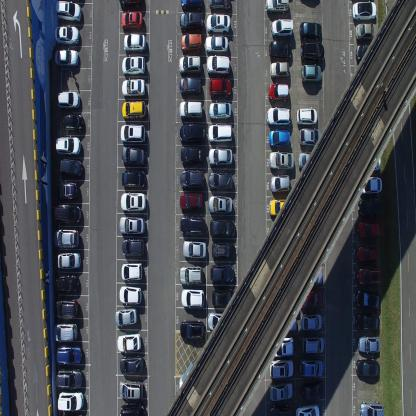car: (52, 203, 82, 224), (355, 288, 382, 311), (179, 214, 206, 237), (55, 367, 83, 389), (54, 23, 79, 47), (120, 190, 146, 213), (55, 0, 81, 23), (357, 220, 384, 242), (208, 145, 233, 168), (207, 122, 233, 144), (207, 170, 233, 192), (179, 122, 205, 144), (120, 145, 146, 167), (56, 344, 82, 366), (53, 227, 79, 249), (55, 88, 81, 110), (268, 150, 295, 171), (57, 390, 84, 411), (206, 53, 230, 76), (357, 266, 382, 288), (266, 105, 291, 127), (299, 40, 324, 62), (182, 238, 207, 260), (54, 48, 79, 70), (358, 198, 384, 219), (351, 0, 377, 21), (355, 42, 381, 63), (207, 310, 233, 331), (120, 123, 146, 144), (116, 332, 142, 353), (118, 379, 144, 400), (54, 273, 80, 294), (55, 134, 81, 155), (119, 283, 142, 306), (206, 12, 230, 34), (208, 77, 232, 99), (269, 358, 294, 379), (268, 40, 293, 61), (180, 169, 205, 190), (180, 145, 205, 166), (179, 11, 204, 32), (209, 217, 235, 237), (179, 320, 205, 340), (119, 216, 145, 236), (272, 335, 295, 357), (356, 357, 380, 378), (269, 380, 293, 401), (299, 357, 323, 378), (210, 262, 234, 283), (179, 100, 203, 121), (121, 55, 145, 76), (121, 168, 145, 189), (114, 306, 138, 327), (59, 157, 83, 178), (355, 312, 380, 332), (180, 288, 205, 308), (53, 322, 78, 342), (53, 298, 78, 318), (54, 180, 79, 200), (178, 192, 204, 211), (56, 251, 82, 270), (302, 379, 324, 401), (268, 81, 290, 103), (121, 260, 143, 282), (271, 17, 294, 38), (208, 100, 231, 121), (268, 198, 292, 218), (208, 194, 232, 214), (179, 265, 203, 285), (178, 54, 202, 74), (180, 33, 204, 53), (121, 78, 145, 98), (122, 100, 146, 120), (121, 238, 145, 258), (119, 354, 143, 374), (300, 289, 322, 310), (301, 63, 322, 85), (212, 287, 234, 308), (124, 32, 146, 53), (300, 266, 323, 286), (299, 126, 322, 146), (205, 34, 228, 54), (119, 10, 142, 30), (273, 316, 297, 335), (359, 176, 383, 195), (178, 77, 202, 96), (356, 245, 378, 265), (296, 106, 318, 126), (299, 21, 322, 40), (355, 23, 378, 42), (211, 241, 235, 259), (359, 153, 381, 172), (268, 128, 290, 147), (62, 113, 84, 132), (359, 400, 384, 416), (270, 173, 290, 193), (269, 61, 290, 80), (358, 334, 380, 352), (302, 336, 324, 354), (300, 312, 322, 330), (298, 151, 320, 169), (264, 0, 290, 15), (119, 402, 146, 416), (295, 403, 320, 415), (208, 0, 231, 12), (268, 404, 292, 415), (180, 0, 204, 11), (119, 0, 144, 8)
